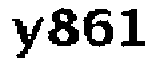1: (118, 7, 149, 50)
6: (83, 7, 114, 51)
8: (48, 6, 81, 49)
y: (9, 16, 43, 60)
